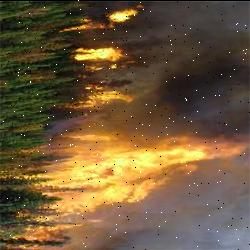fire: (38, 0, 250, 246)
